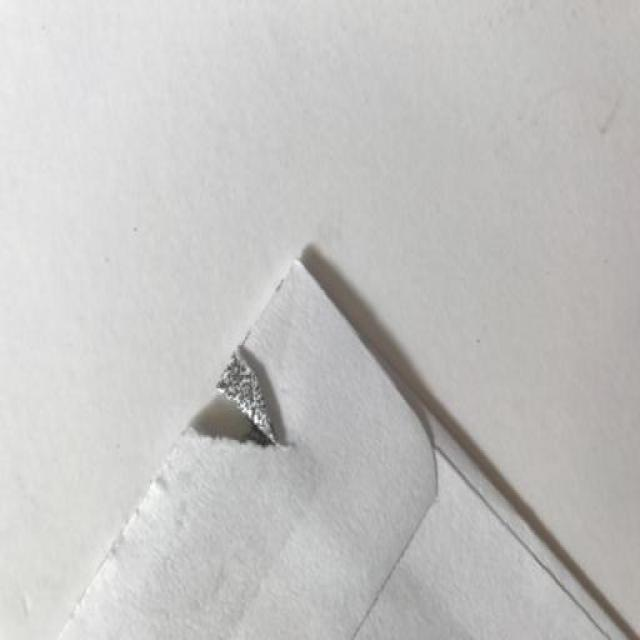paper: (53, 234, 640, 640)
